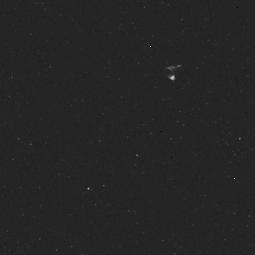debris: (160, 62, 186, 82)
